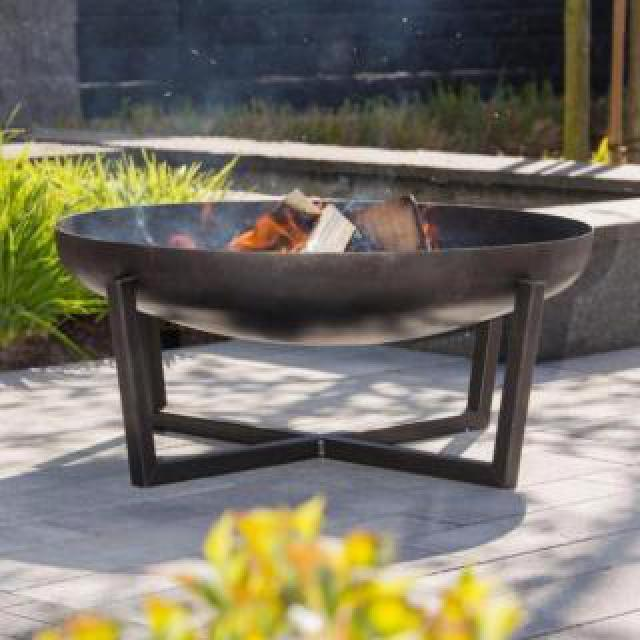Fire: (174, 146, 312, 248)
